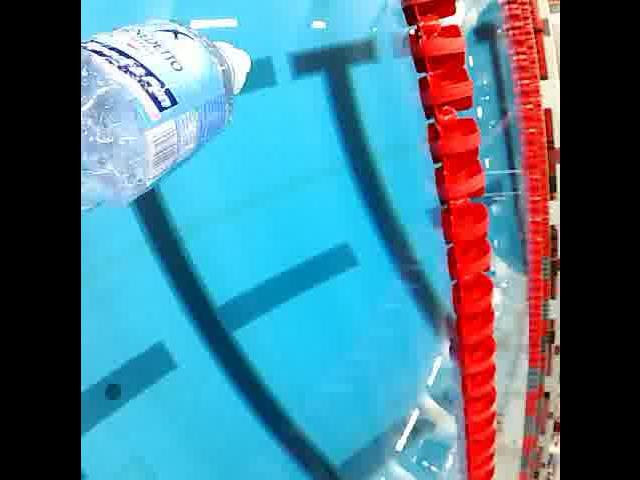Bottle: (80, 18, 255, 219)
